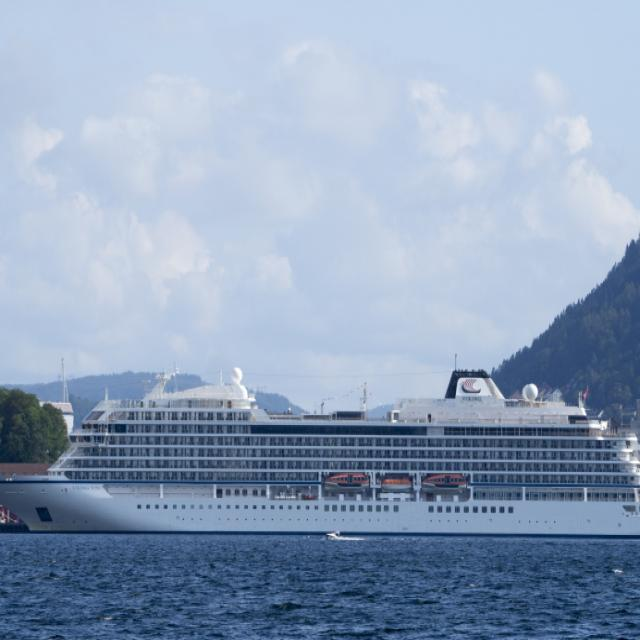cruises: (1, 355, 640, 560)
